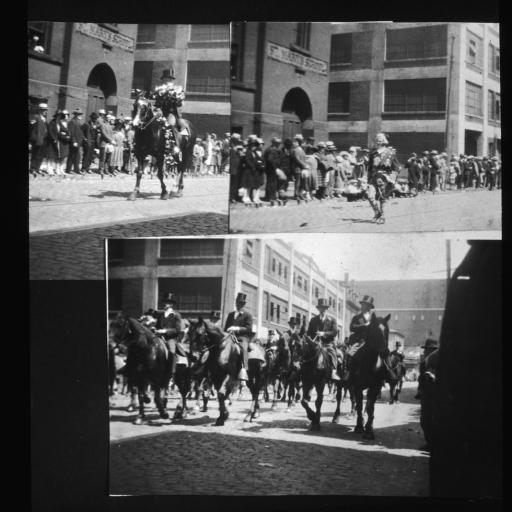horse: (104, 310, 406, 440), (126, 86, 198, 200)
